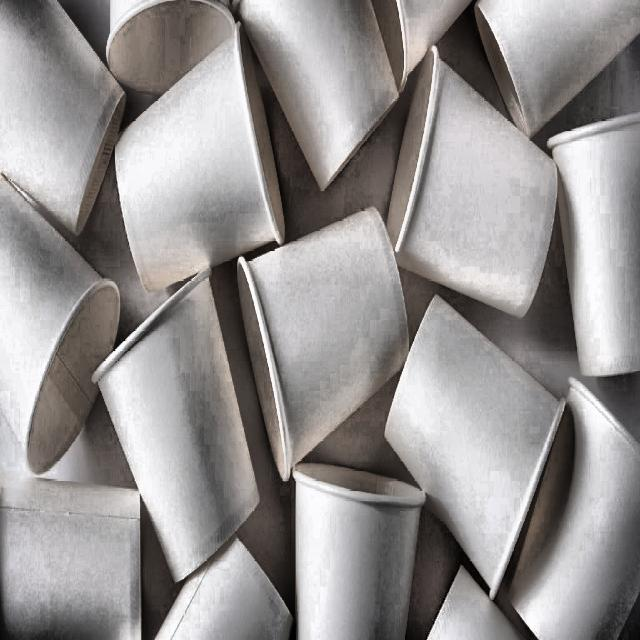Cup: (383, 272, 568, 619), (84, 254, 268, 562), (379, 44, 559, 329), (105, 22, 291, 284), (243, 192, 411, 475), (499, 372, 640, 640), (541, 101, 640, 389)
